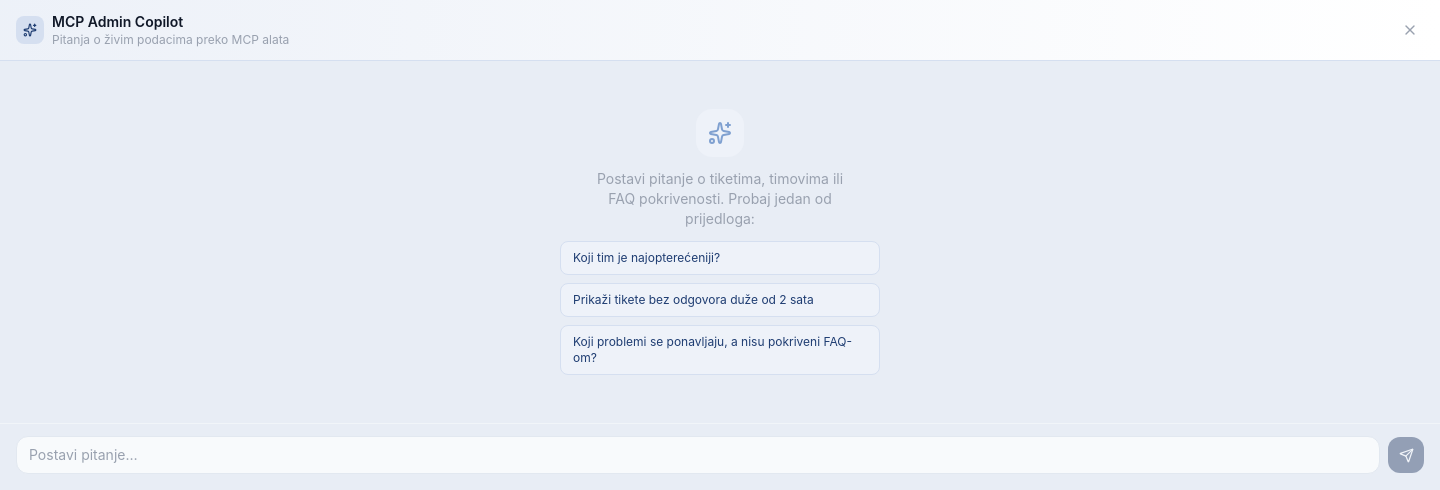
Test: AdminCopilotPanel (PB-70 / US-108) › prikazuje grešku kao alert kada servis nije dostupan
Click the button "Koji tim je najopterećeniji?" at (720, 258), box [560,241,880,275]
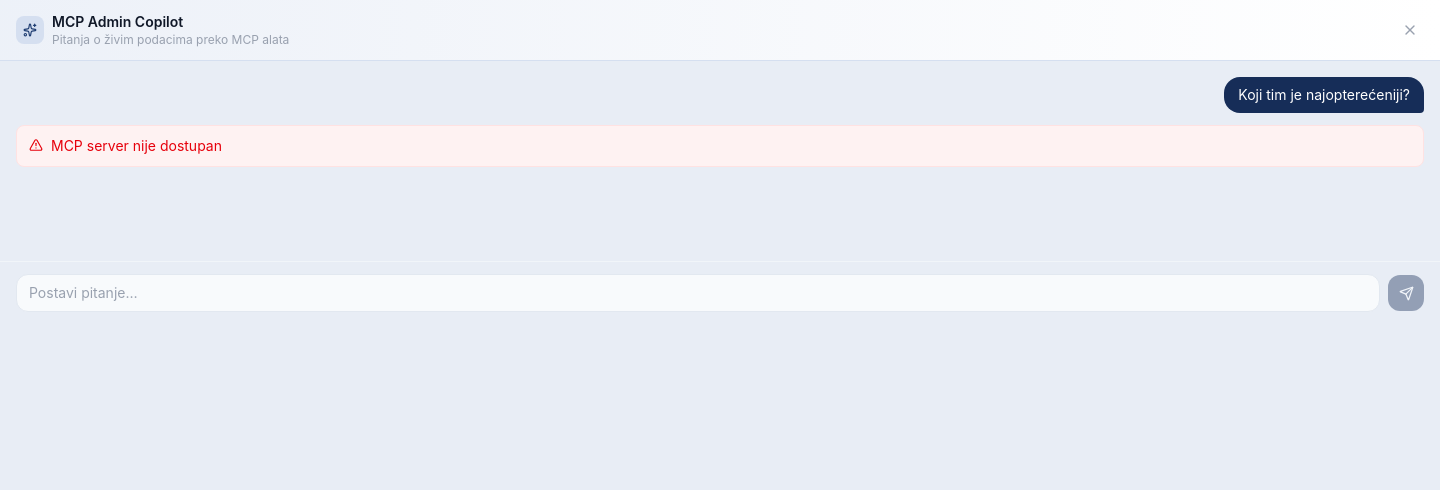
Result: the message reads "MCP server nije dostupan" at [51,137,222,154]
